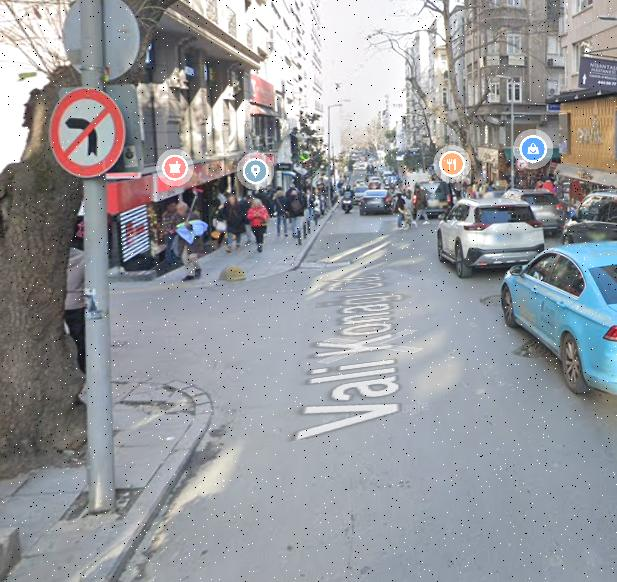leftturnsareforbidden: (49, 89, 125, 169)
